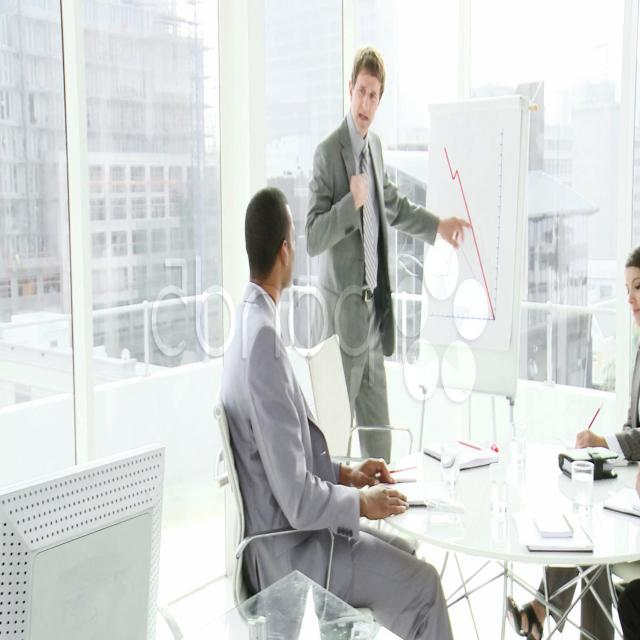adult: (224, 185, 460, 640), (302, 49, 473, 480)
